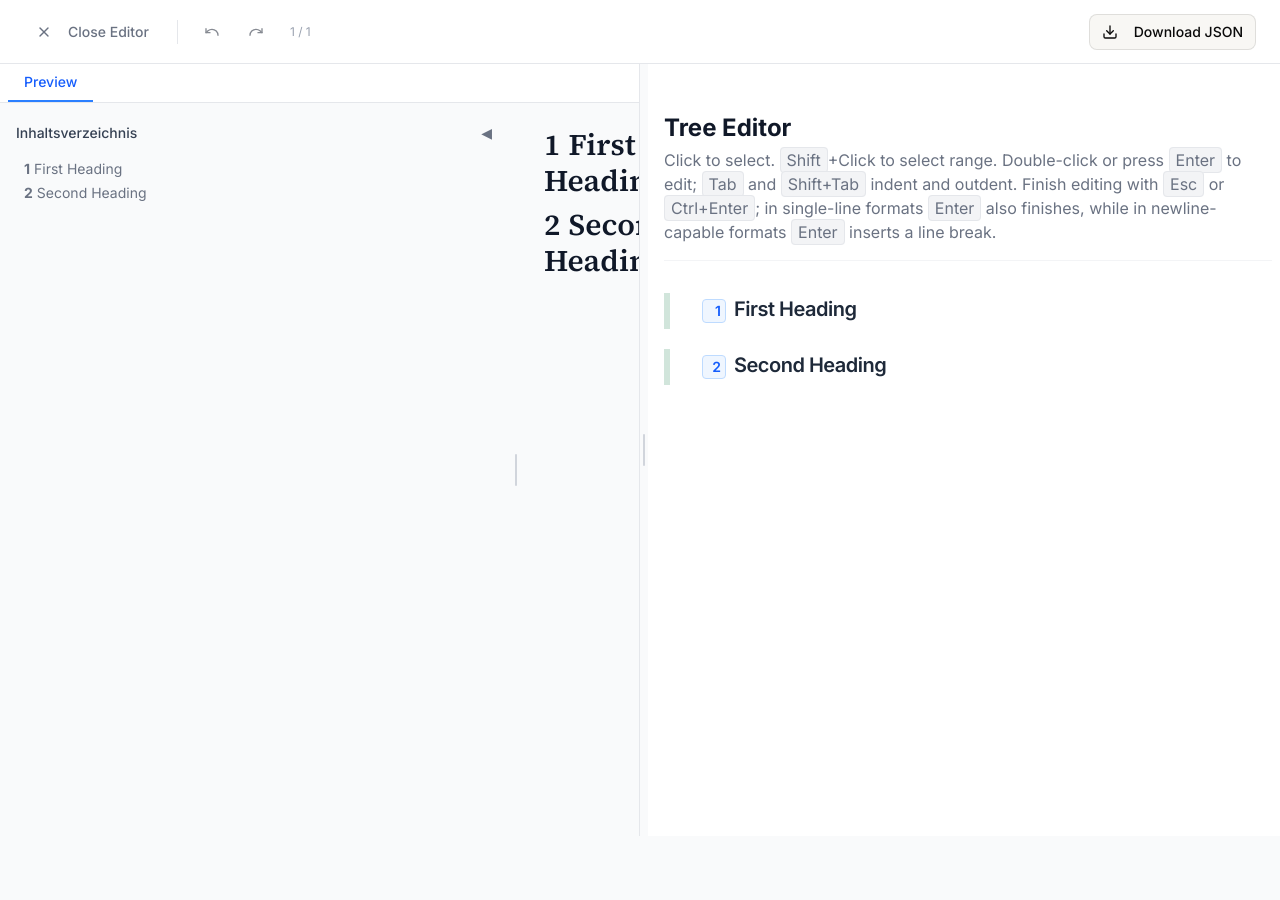
TreeEditor keyboard shortcuts › type change shortcuts with a node selected › D converts the selected node to a definition list
Click the heading "First Heading" at (795, 309), box [734, 297, 856, 321]
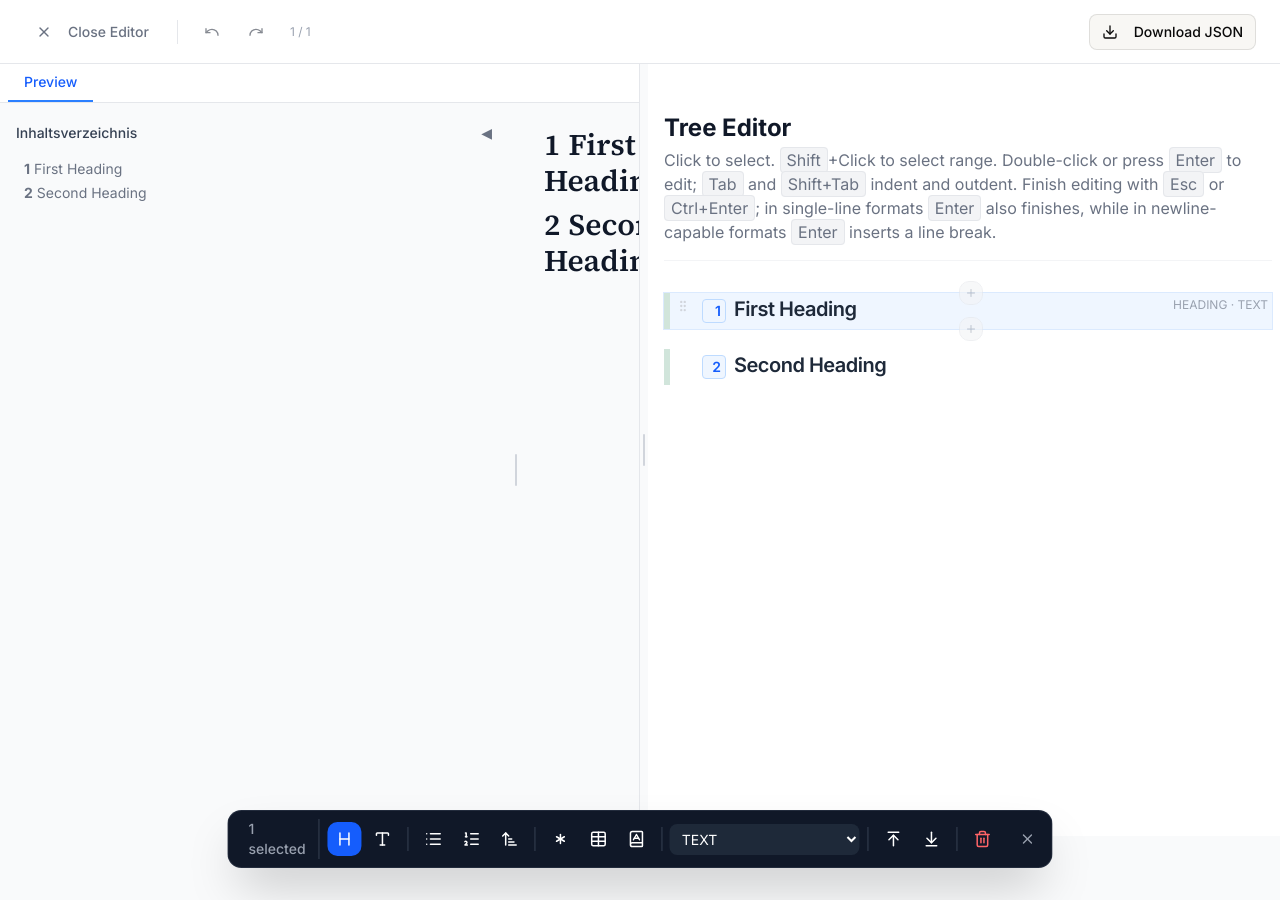
Press d in the element with test id "tree-editor-pane", box [648, 64, 1279, 836]
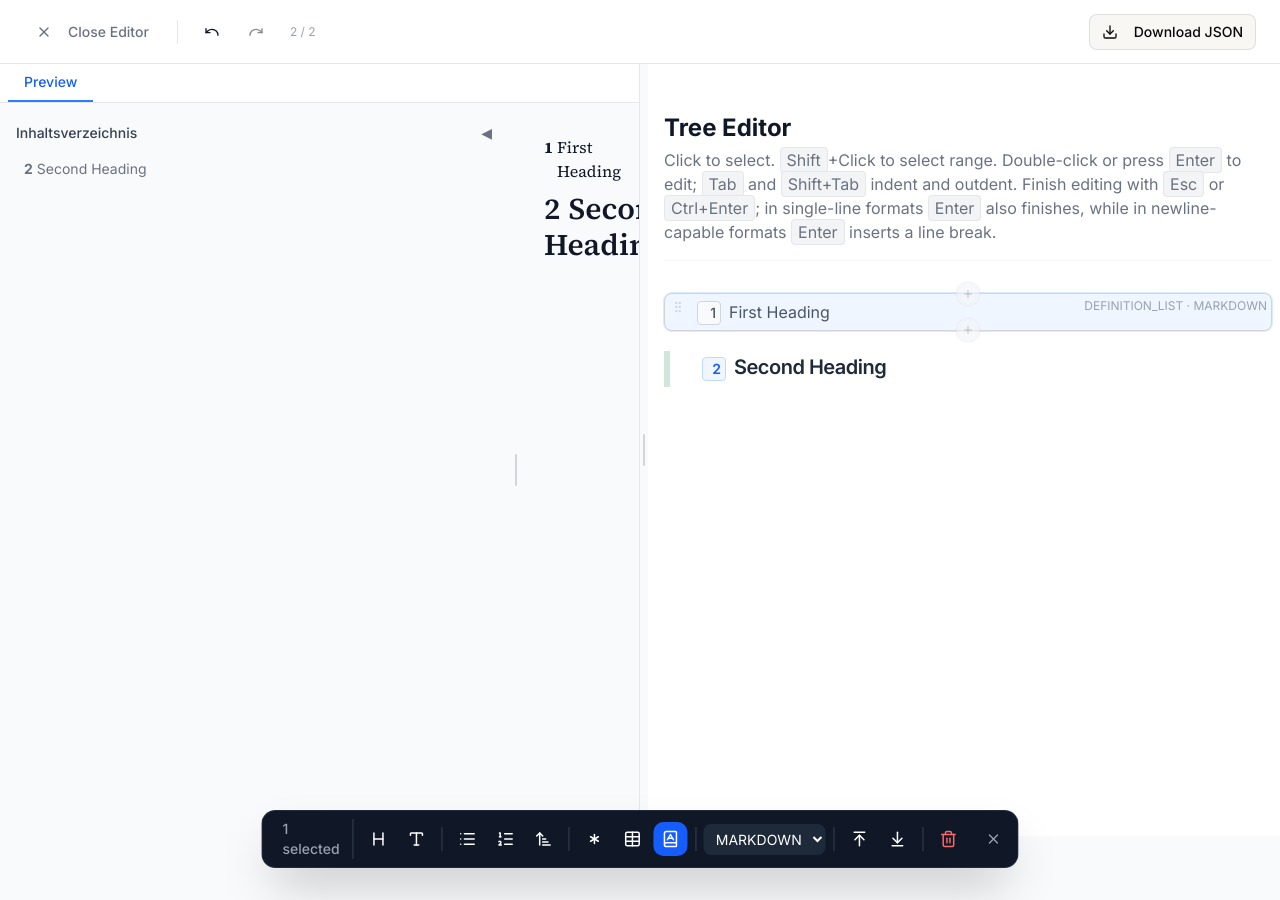
Now the text with class "tree-node-type-indicator" reads "DEFINITION_LIST · MARKDOWN", box [1084, 298, 1267, 313]
